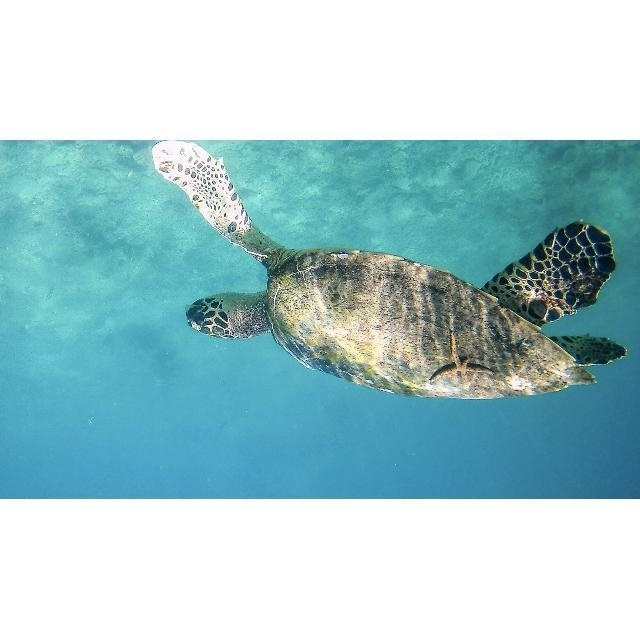turtle: (149, 140, 627, 400)
